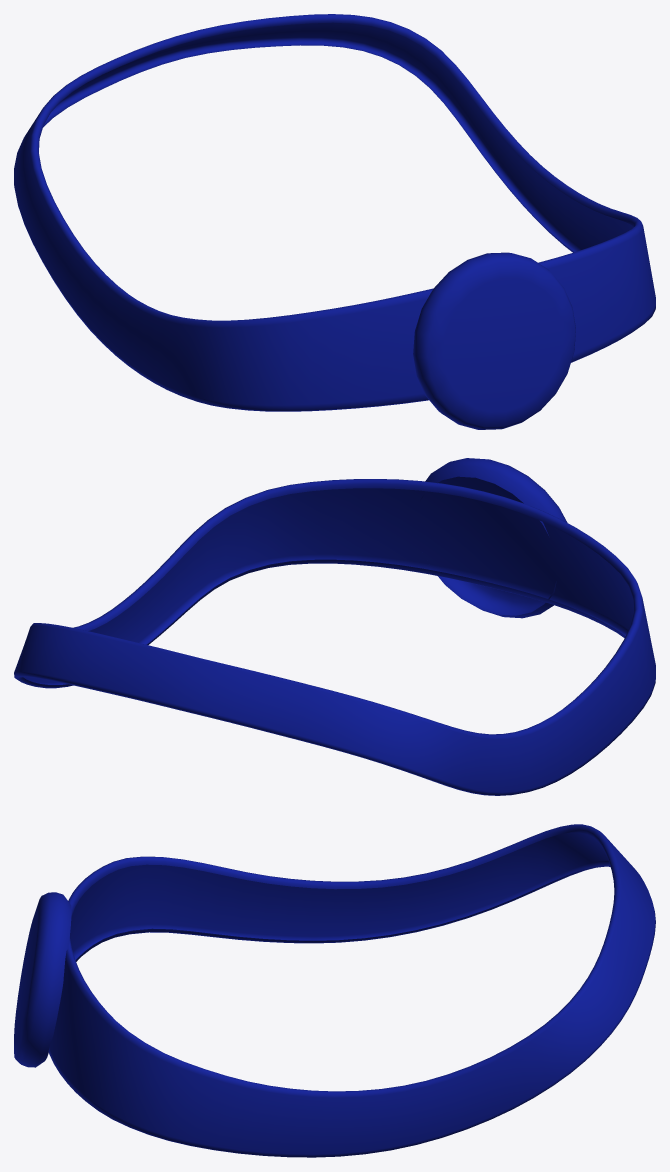
File: SM_horse_homut.fbx
The picture shows the model from 3 angles, top to bottom: view 1: azimuth 30°, elevation 25°; view 2: azimuth 150°, elevation 25°; view 3: azimuth 270°, elevation 25°; orthographic projection. The views are drawn at different scales.
Visible parts, largest first — view 1: SM_horse_homut; view 2: SM_horse_homut; view 3: SM_horse_homut.
Part boxes in pixels (x1,y1,x2,y2): SM_horse_homut: (14,14,655,429); SM_horse_homut: (14,458,655,795); SM_horse_homut: (14,824,655,1157).
Bounding box in the file's own units: 54.7 × 20.22 × 68.14.
